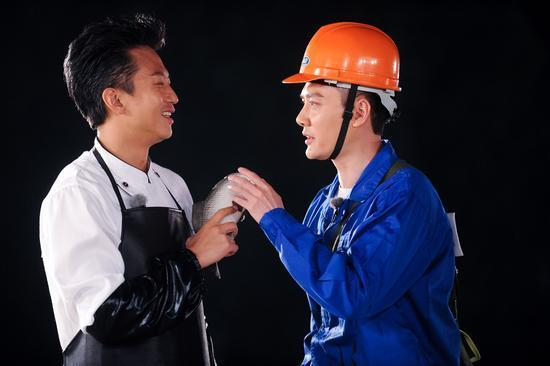helmet: (282, 22, 405, 90)
